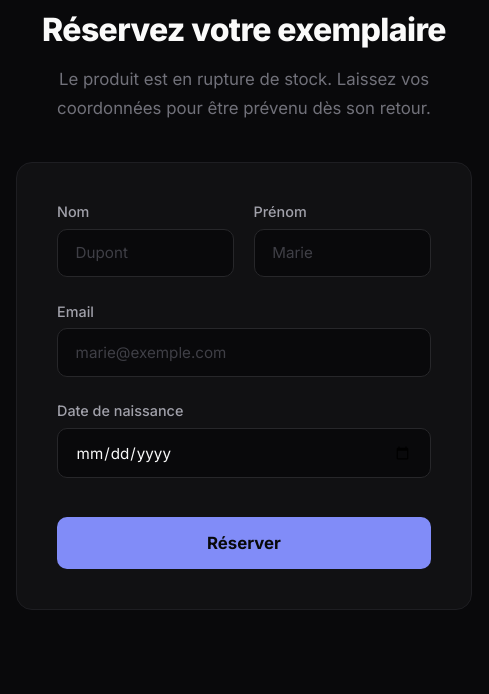
it: SignupForm › affiche les erreurs de validation quand le formulaire est soumis vide
This screenshot has width=489, height=694.
What coordinates should you click on to do the following:
click the button "Réserver"
I would click on:
 (244, 543)
Its box is 57,517 -> 431,569.
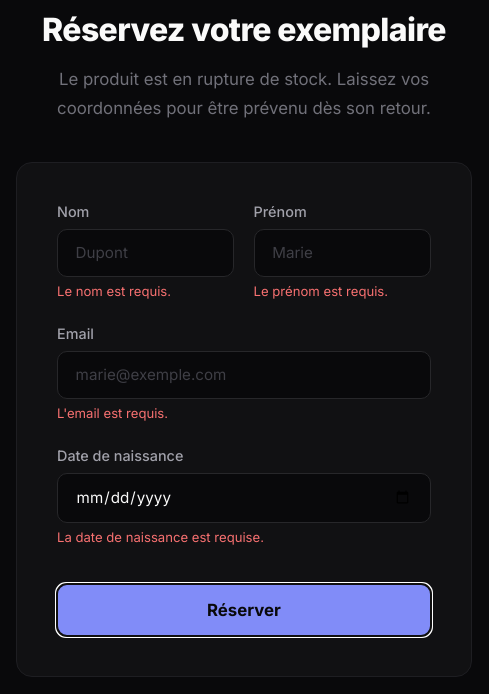
Result: the text "Le nom est requis." is shown at 57,284 -> 171,300
Result: the text "Le prénom est requis." is shown at 254,284 -> 388,300
Result: the text "L'email est requis." is shown at 57,405 -> 168,421
